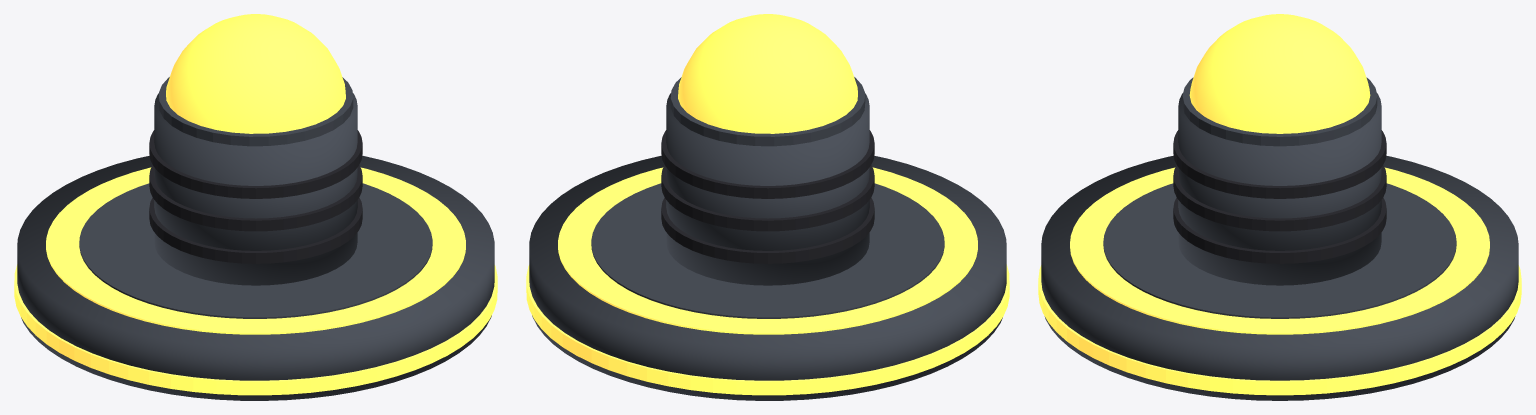
The model's file is rebatedor_p2.glb.
3 views of the same model, side by side, from view 1: azimuth 30°, elevation 25°; view 2: azimuth 150°, elevation 25°; view 3: azimuth 270°, elevation 25° (orthographic).
Parts seen in each view (by area): view 1: MalletBaseChassis, Cylinder, MalletGripStem, MalletReactorDome, MalletUpperRing, MalletLowerRing, Cylinder.003, Cylinder.001, Cylinder.002, Cylinder.004; view 2: MalletBaseChassis, Cylinder, MalletGripStem, MalletReactorDome, MalletUpperRing, MalletLowerRing, Cylinder.003, Cylinder.001, Cylinder.002, Cylinder.004; view 3: MalletBaseChassis, Cylinder, MalletGripStem, MalletReactorDome, MalletUpperRing, MalletLowerRing, Cylinder.003, Cylinder.001, Cylinder.002, Cylinder.004.
Boxes of the visible parts, left/top/right/bottom form: MalletBaseChassis: left=17, top=155, right=494, bottom=400; Cylinder: left=79, top=183, right=432, bottom=318; MalletGripStem: left=154, top=93, right=357, bottom=285; MalletReactorDome: left=166, top=14, right=345, bottom=133; MalletUpperRing: left=46, top=167, right=465, bottom=334; MalletLowerRing: left=14, top=264, right=497, bottom=395; Cylinder.003: left=149, top=130, right=362, bottom=198; Cylinder.001: left=149, top=197, right=362, bottom=263; Cylinder.002: left=149, top=165, right=362, bottom=231; Cylinder.004: left=158, top=77, right=353, bottom=146; MalletBaseChassis: left=529, top=155, right=1006, bottom=400; Cylinder: left=591, top=183, right=944, bottom=318; MalletGripStem: left=666, top=93, right=869, bottom=285; MalletReactorDome: left=678, top=14, right=857, bottom=133; MalletUpperRing: left=558, top=167, right=977, bottom=334; MalletLowerRing: left=526, top=264, right=1009, bottom=395; Cylinder.003: left=661, top=130, right=874, bottom=198; Cylinder.001: left=661, top=197, right=874, bottom=263; Cylinder.002: left=661, top=165, right=874, bottom=231; Cylinder.004: left=670, top=77, right=865, bottom=146; MalletBaseChassis: left=1041, top=155, right=1518, bottom=400; Cylinder: left=1103, top=183, right=1456, bottom=318; MalletGripStem: left=1178, top=93, right=1381, bottom=285; MalletReactorDome: left=1189, top=14, right=1370, bottom=133; MalletUpperRing: left=1070, top=167, right=1489, bottom=334; MalletLowerRing: left=1038, top=265, right=1521, bottom=395; Cylinder.003: left=1173, top=130, right=1386, bottom=198; Cylinder.001: left=1173, top=197, right=1386, bottom=263; Cylinder.002: left=1173, top=165, right=1386, bottom=231; Cylinder.004: left=1182, top=77, right=1377, bottom=146.
Bounding box in the file's own units: 0.1619 × 0.1038 × 0.1619.
